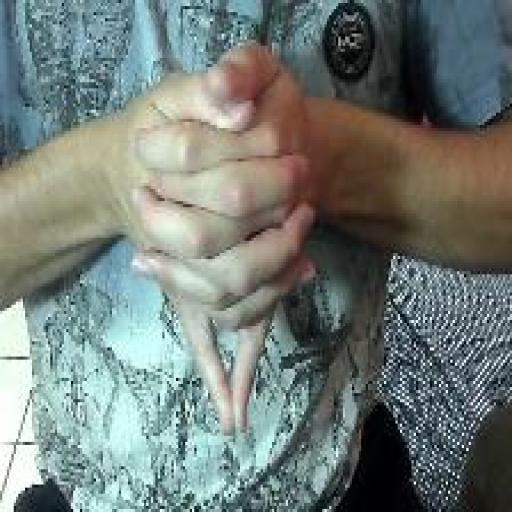Tatsu -dragon-: (122, 33, 324, 445)
